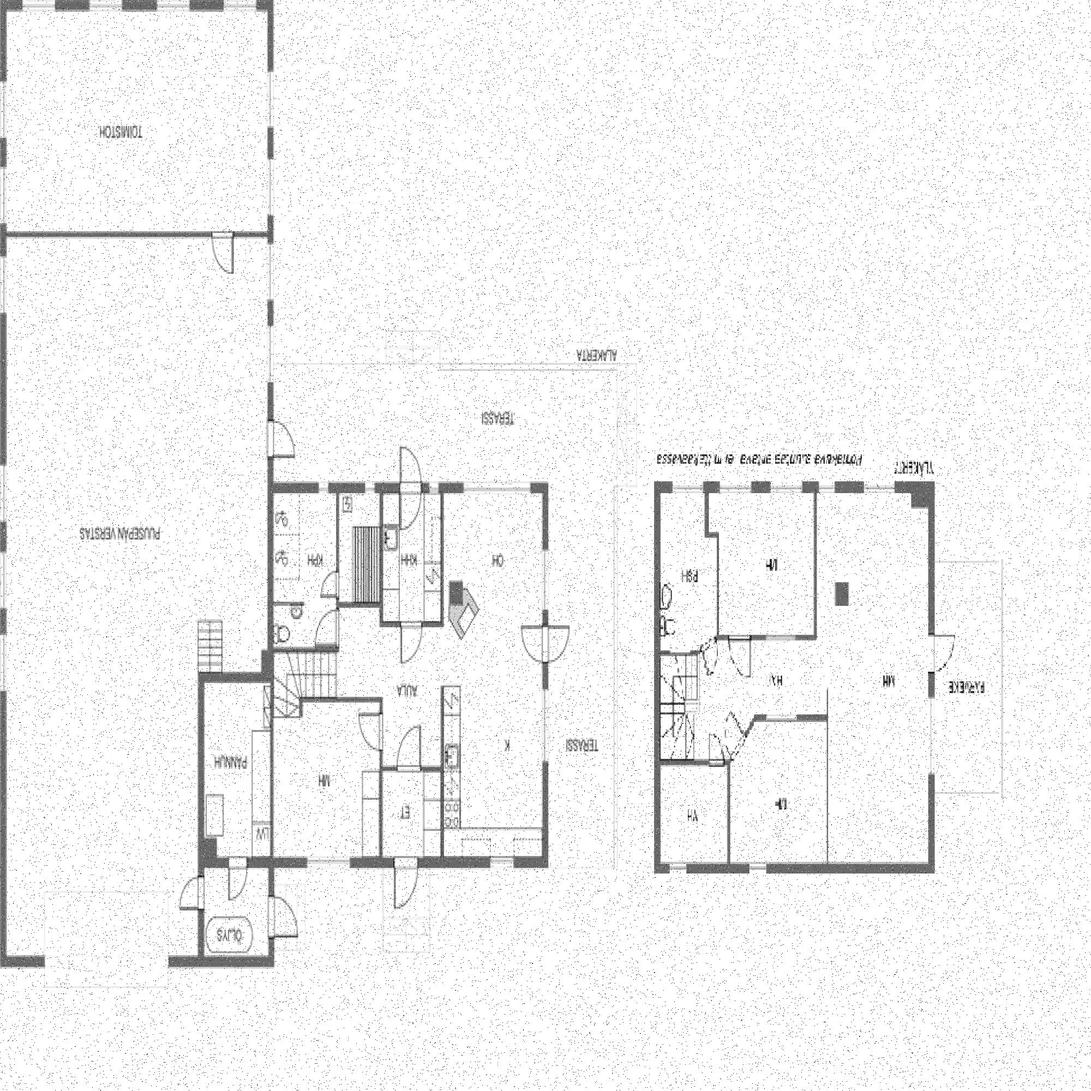wall: (0, 0, 6, 966), (267, 0, 274, 493), (267, 482, 548, 493), (653, 862, 934, 873), (268, 857, 548, 868), (654, 482, 934, 493), (0, 956, 274, 966), (653, 482, 660, 873), (0, 0, 273, 10), (928, 482, 934, 873), (542, 482, 548, 868), (353, 697, 382, 755), (727, 715, 757, 765), (267, 493, 274, 683), (6, 232, 267, 237), (198, 672, 204, 868), (269, 672, 274, 857), (198, 857, 274, 868), (198, 672, 274, 683), (440, 686, 444, 857), (268, 857, 274, 966), (198, 857, 204, 956), (440, 482, 444, 626), (717, 635, 816, 640), (336, 493, 339, 652), (698, 634, 719, 656), (813, 493, 816, 640), (379, 750, 383, 857), (659, 759, 730, 765), (755, 715, 826, 721), (379, 492, 382, 626), (299, 696, 356, 703), (383, 766, 440, 772), (379, 621, 444, 626), (449, 582, 463, 605), (727, 759, 730, 862), (835, 582, 848, 605), (826, 715, 828, 862), (274, 648, 339, 652), (911, 492, 928, 507), (204, 838, 217, 857), (660, 649, 699, 655), (717, 532, 719, 639), (339, 602, 379, 607), (704, 492, 708, 537), (262, 650, 267, 672), (274, 601, 304, 604), (704, 532, 719, 538), (299, 697, 302, 718), (826, 689, 828, 715)
